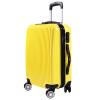luggage: (23, 0, 74, 98)
